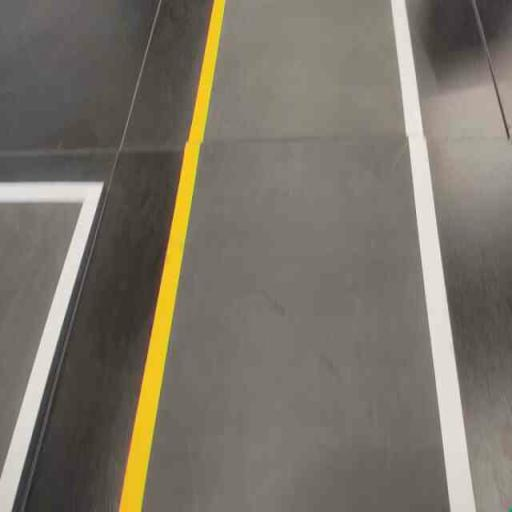straight: (114, 136, 484, 474)
